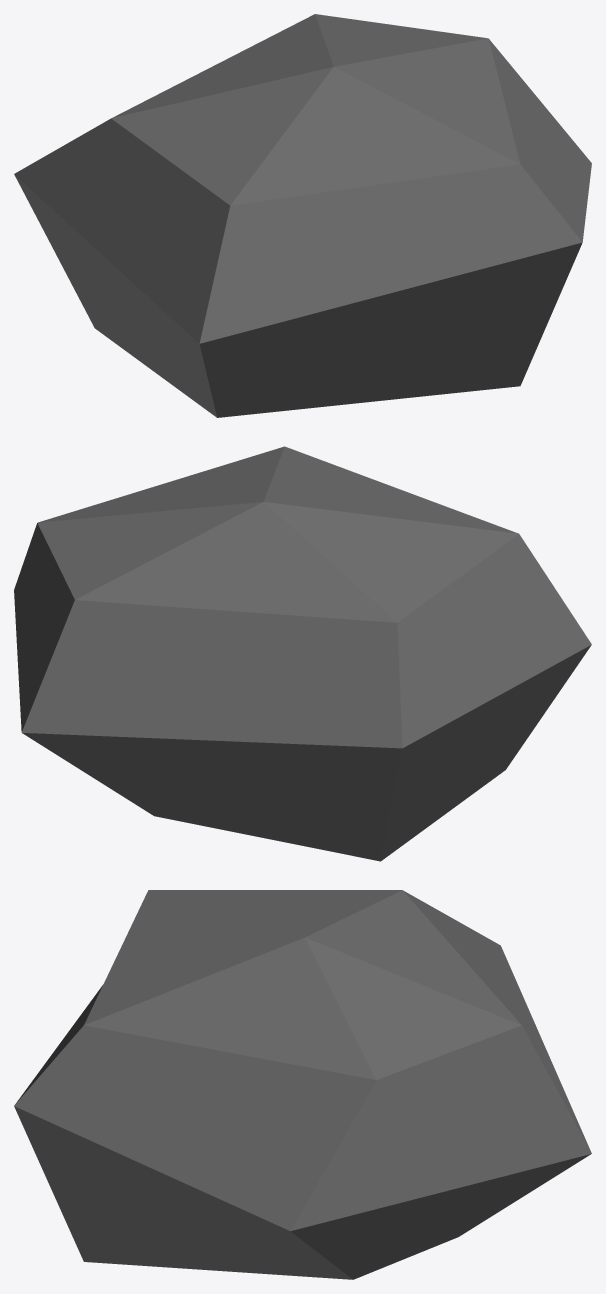
Rendered from Rock2_Model.fbx.
3 renders of one model, top to bottom at view 1: azimuth 30°, elevation 25°; view 2: azimuth 150°, elevation 25°; view 3: azimuth 270°, elevation 25°, orthographic. The views are drawn at different scales.
Visible parts, largest first — view 1: pSphere2; view 2: pSphere2; view 3: pSphere2.
Part boxes in pixels (x1=…): pSphere2: x1=14, y1=14, x2=591, y2=417; pSphere2: x1=14, y1=446, x2=591, y2=861; pSphere2: x1=14, y1=890, x2=591, y2=1279.
Bounding box in the file's own units: 5.39 × 2.84 × 5.28.
